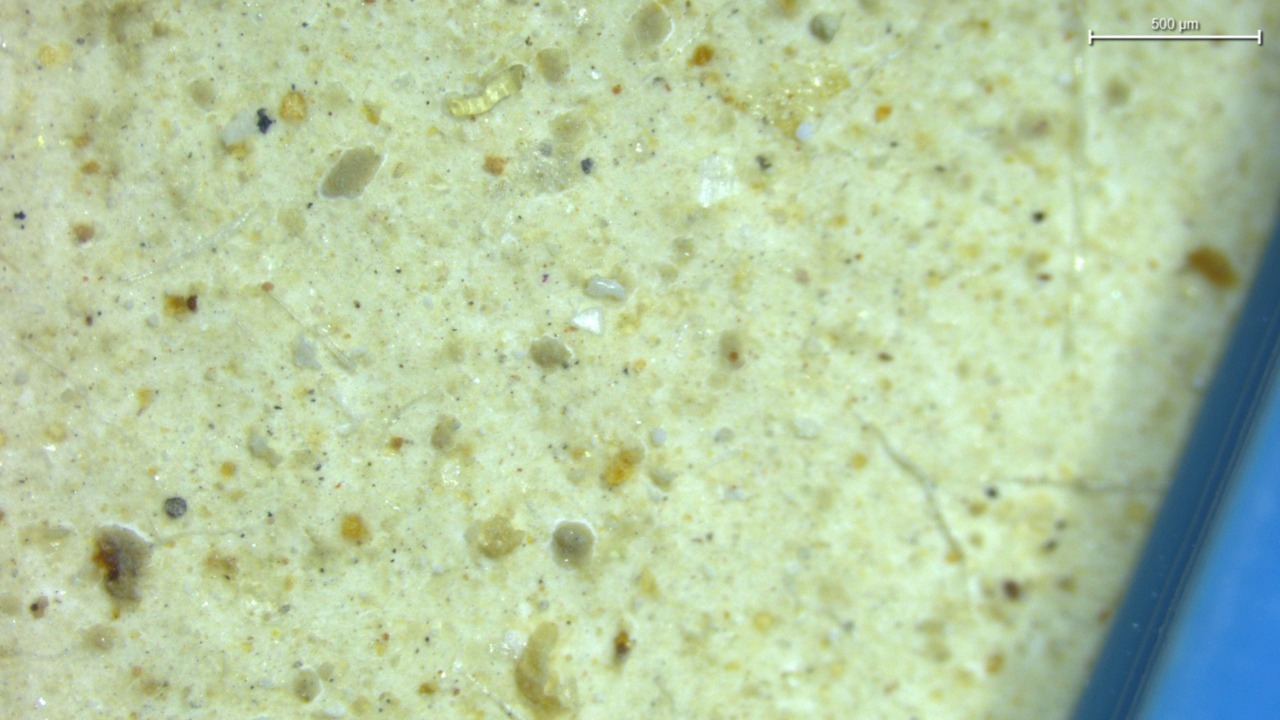microplastic_fragment: (446, 62, 525, 117), (586, 277, 625, 299)
